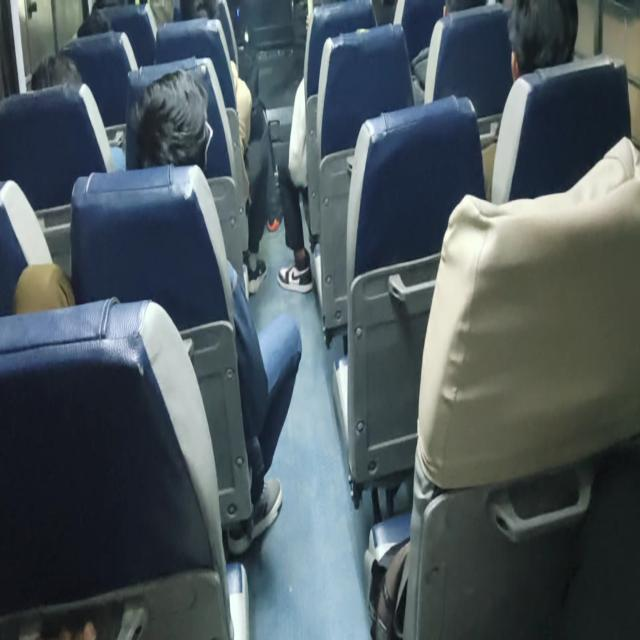person: (125, 67, 303, 554), (276, 0, 376, 294), (181, 0, 268, 294), (480, 0, 580, 200), (128, 67, 212, 172), (506, 0, 578, 82)
